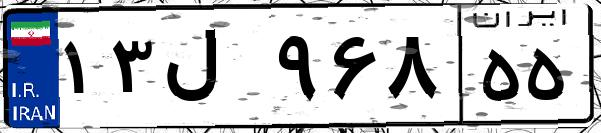1: (57, 26, 110, 100)
3: (110, 28, 158, 98)
5: (475, 38, 525, 113), (525, 38, 570, 115)
6: (330, 28, 385, 110)
8: (385, 28, 445, 110)
9: (270, 28, 330, 110)
ل: (158, 20, 270, 120)
